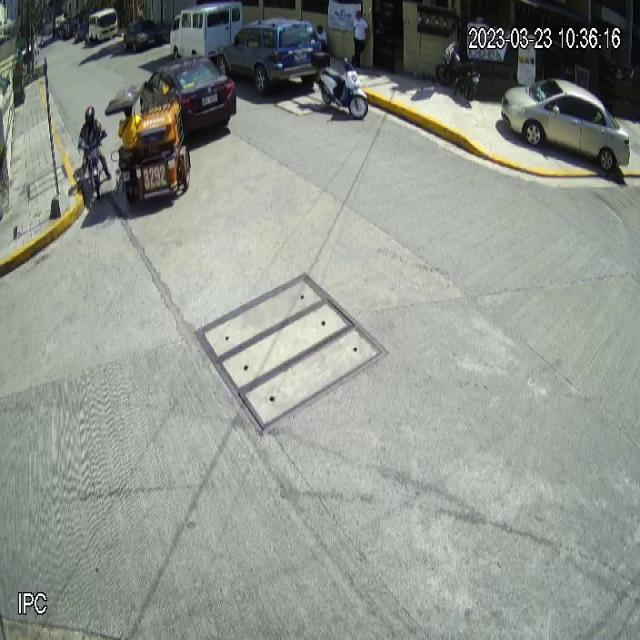Car: (500, 76, 631, 175), (216, 17, 322, 98), (138, 54, 238, 134)
Motorcycle: (310, 49, 370, 121), (76, 131, 108, 202)
Tricycle: (104, 82, 191, 206)
Van: (169, 1, 245, 61)
